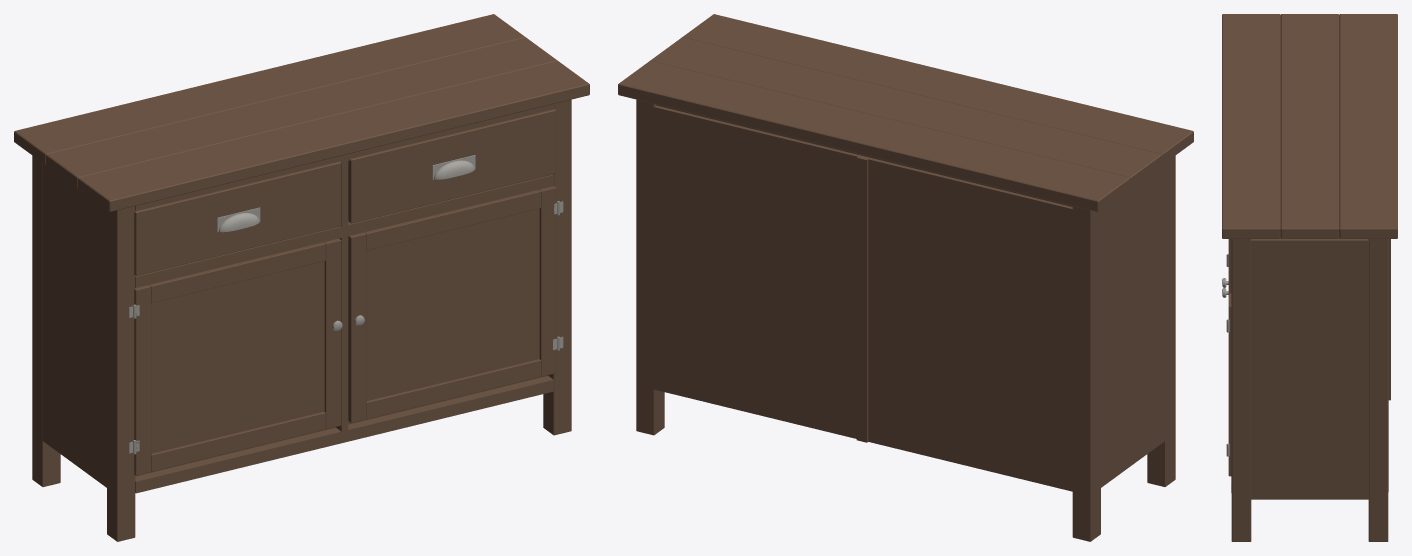
The model's file is coffee-sideboard-36bdfcd397a0.glb.
The picture shows the model from 3 angles, left to right: view 1: azimuth 30°, elevation 25°; view 2: azimuth 150°, elevation 25°; view 3: azimuth 270°, elevation 25°; orthographic projection. The views are drawn at different scales.
Visible parts, largest first — view 1: wood, brushed; view 2: wood; view 3: wood, brushed.
Boxes of the visible parts, x1,y1,x2,y2 form: wood: (14,14,589,541); brushed: (129,155,563,454); wood: (618,14,1193,541); wood: (1222,14,1397,541); brushed: (1222,254,1229,456).
Bounding box in the file's own units: 1.3 × 0.9 × 0.4496.
